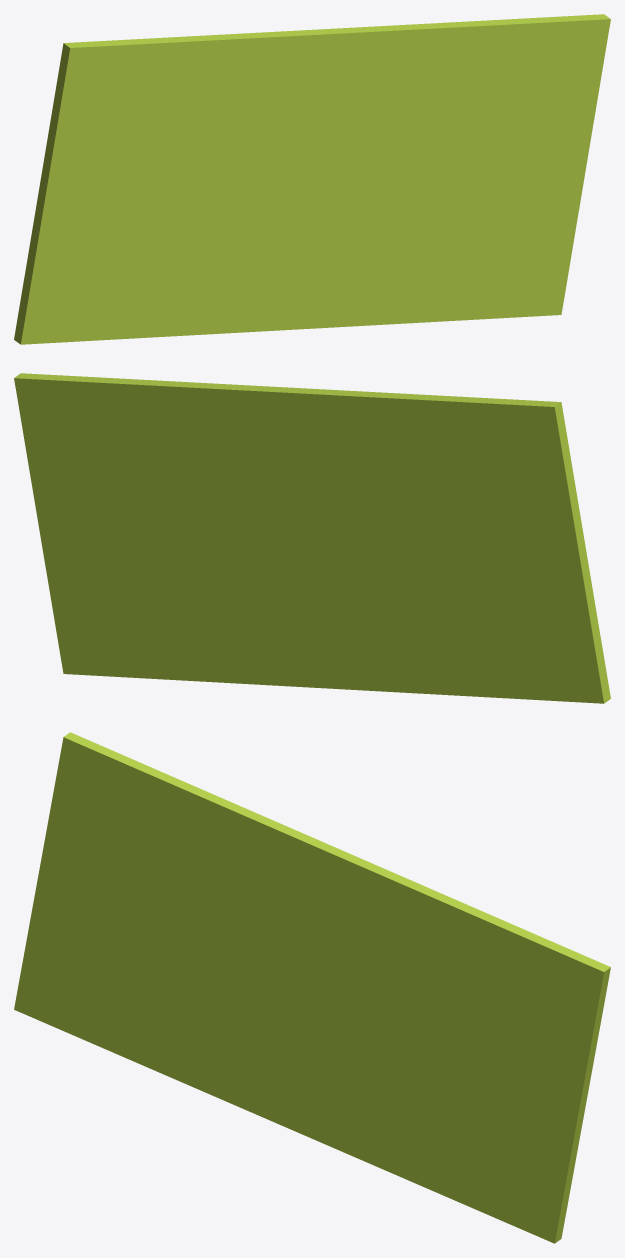
The picture shows the model from 3 angles, top to bottom: view 1: azimuth 30°, elevation 25°; view 2: azimuth 150°, elevation 25°; view 3: azimuth 330°, elevation 25°; orthographic projection.
Parts seen in each view (by area): view 1: osm-way27917482-F-1; view 2: osm-way27917482-F-1; view 3: osm-way27917482-F-1.
Part boxes in pixels (<box>): osm-way27917482-F-1: <box>14,14,610,344</box>; osm-way27917482-F-1: <box>14,373,610,703</box>; osm-way27917482-F-1: <box>14,732,610,1243</box>.
Bounding box in the file's own units: 7.53 × 4.71 × 0.15.
